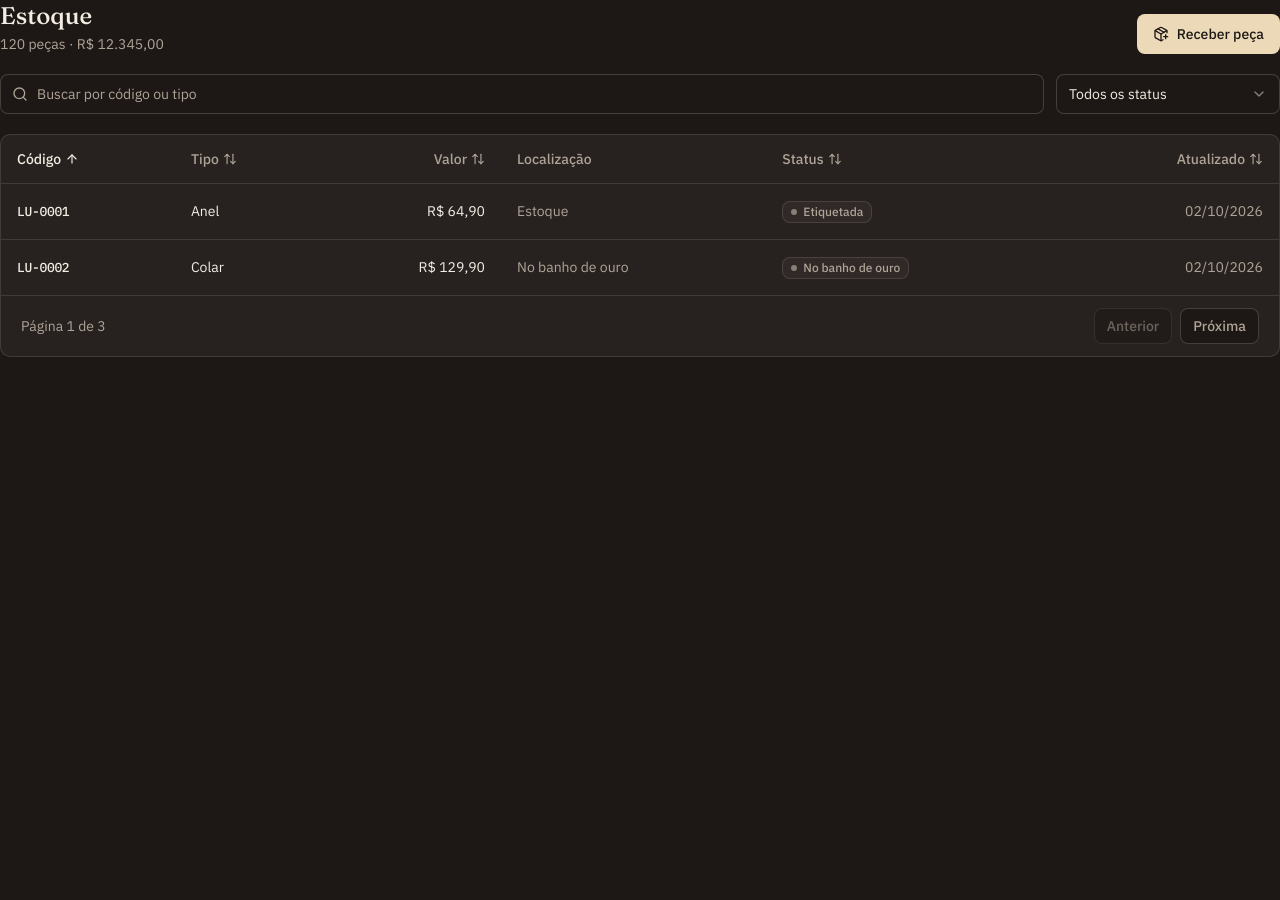
Test case: inventory screen › validates the value locally and shows API validation errors without a false success
Check: the text "LU-0001" is shown, box 17,202 -> 69,220
Click the button "Receber peça": (1208, 34) 1137,14 -> 1279,54
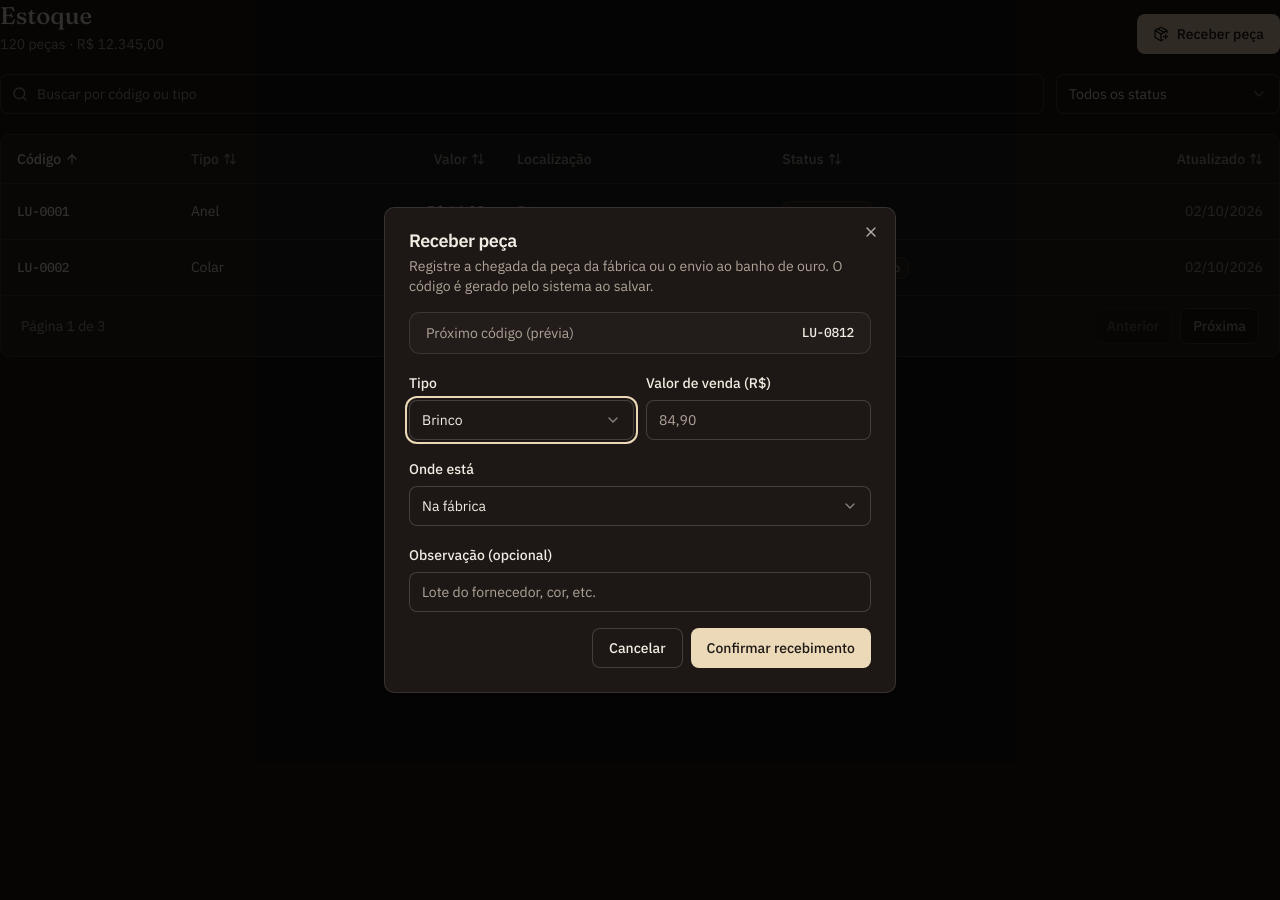
In the field labelled "Valor de venda (R$)": (758, 420) 646,400 -> 871,440, type "0"
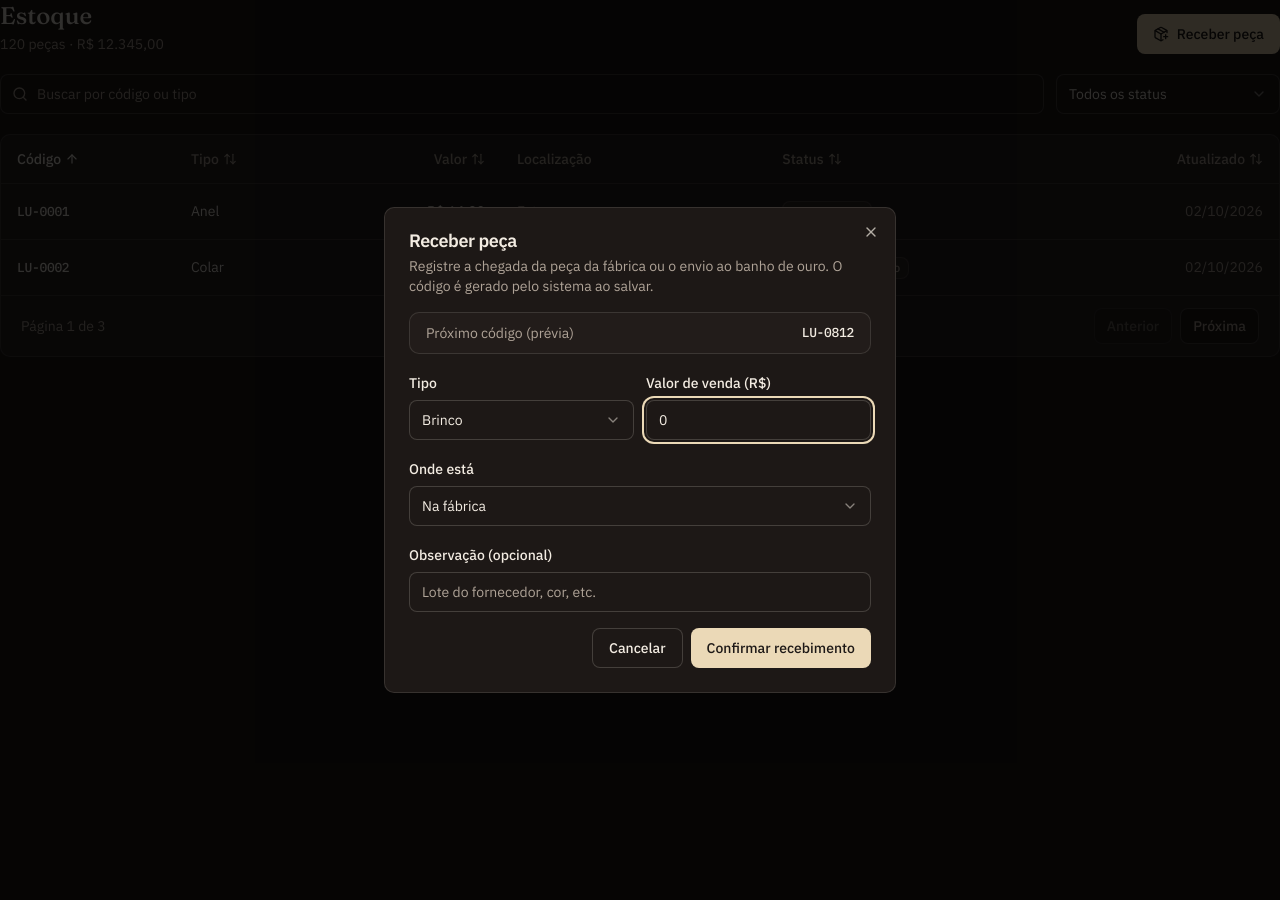
Click the button "Confirmar recebimento": (781, 648) 691,628 -> 871,668
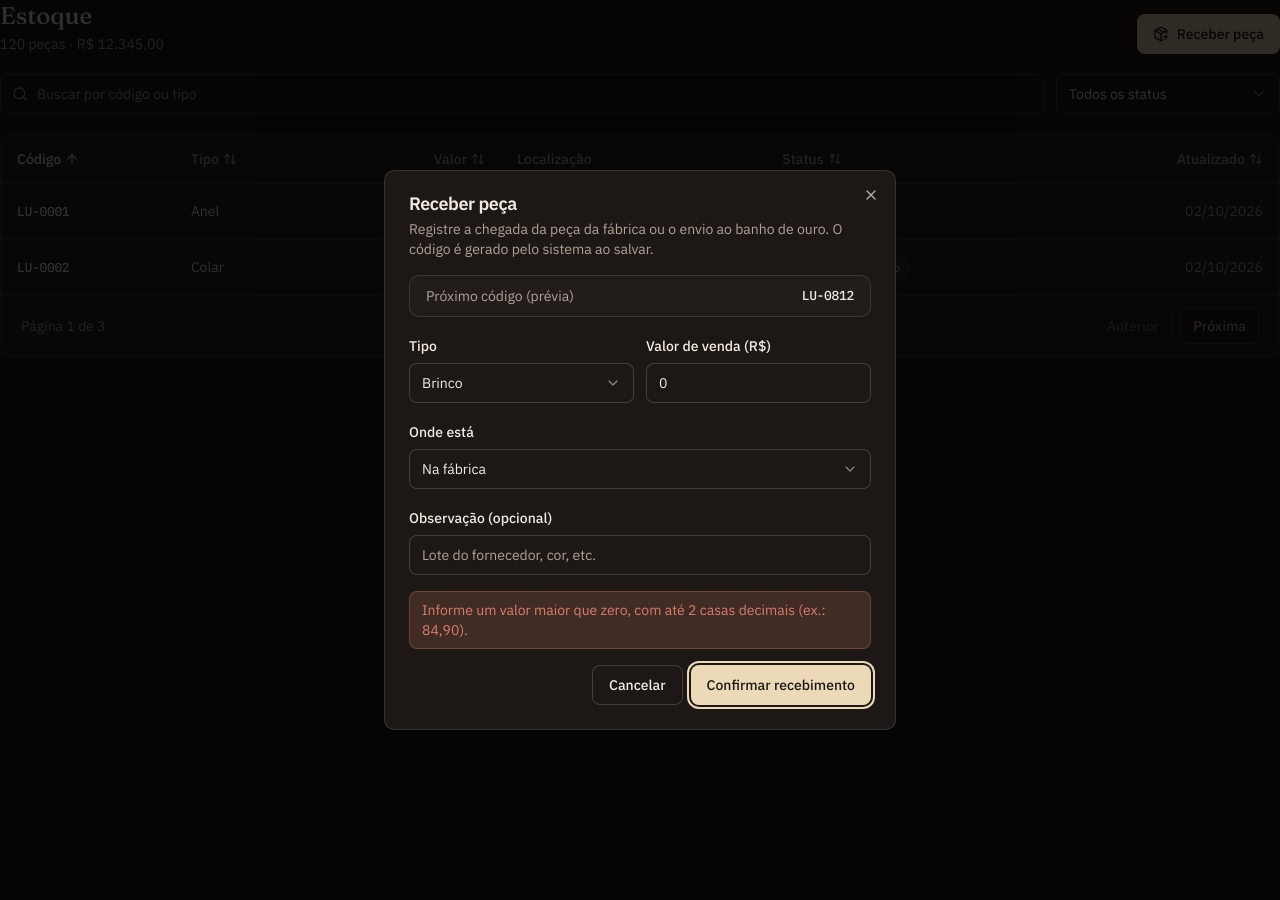
Check: the message shows "maior que zero", box 422,601 -> 826,639
Replace the text in the field labelled "Valor de venda (R$)" with "84,90": (758, 383) 646,363 -> 871,403
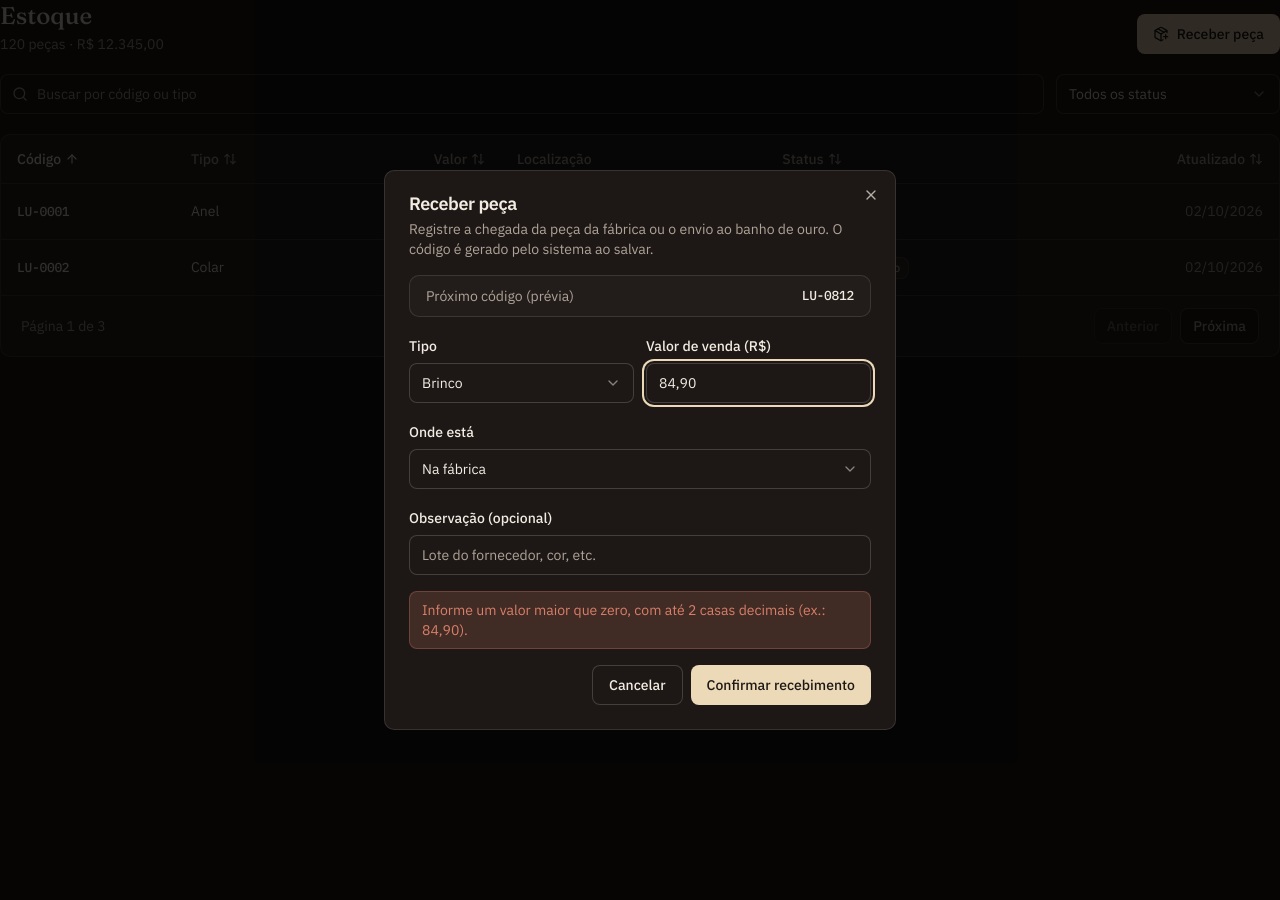
Click the button "Confirmar recebimento": (781, 685) 691,665 -> 871,705
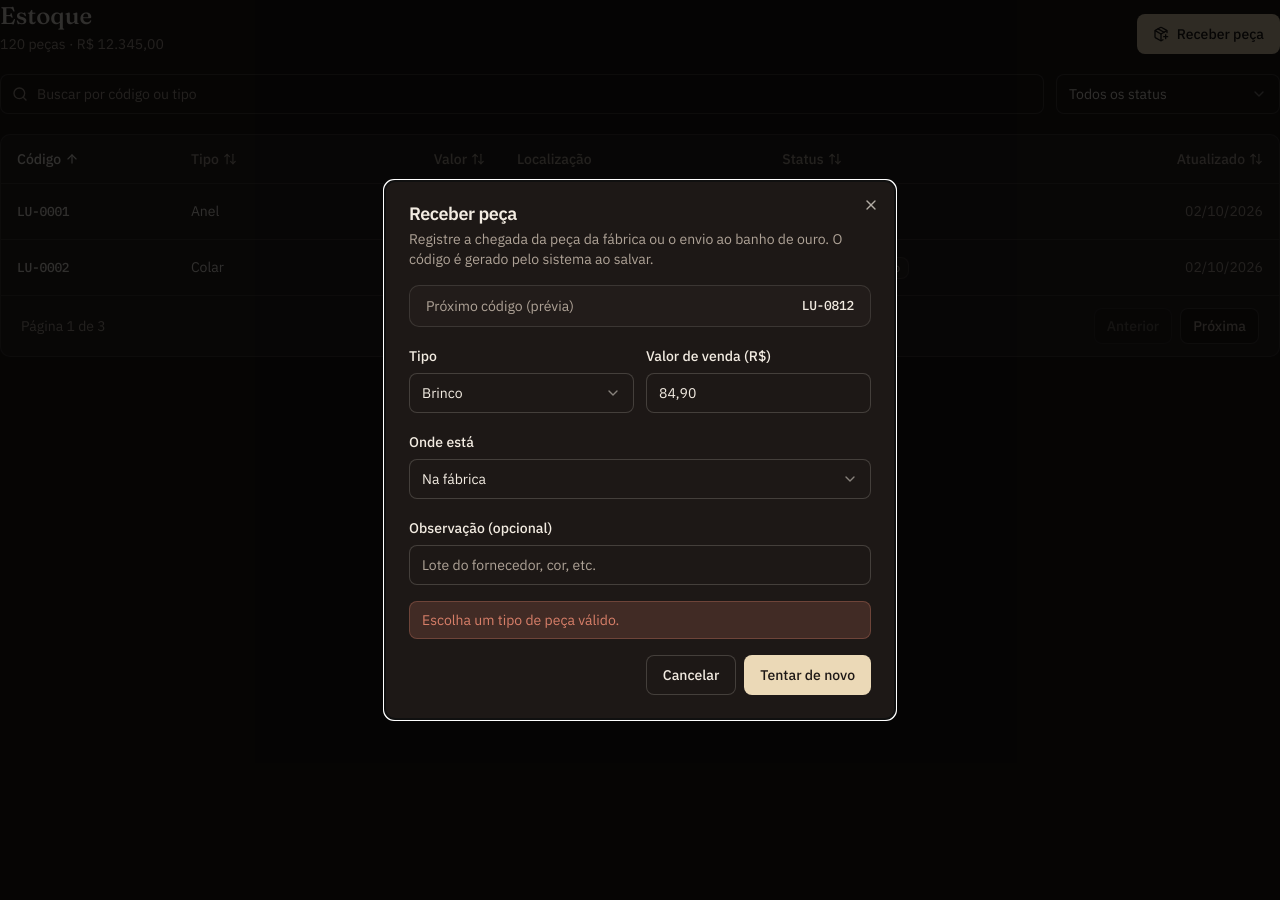
Check: the dialog is shown, box 384,180 -> 896,720
Check: the text "Escolha um tipo de peça válido." is shown, box 409,601 -> 871,639
